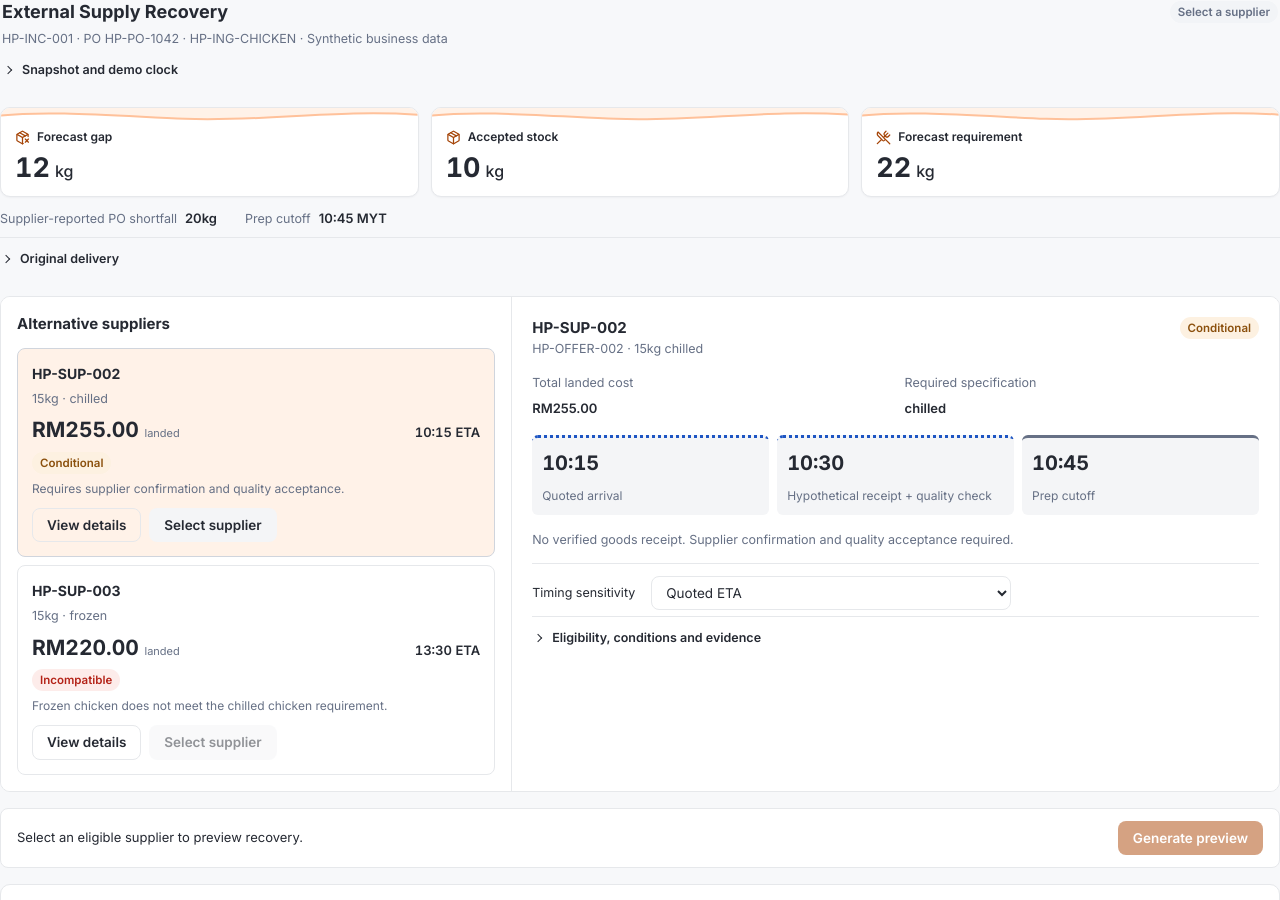
Scenario: requires a selected eligible supplier and current scenario for an internal PO
Click the button with aria-label "Inspect HP-OFFER-003" at {"x": 87, "y": 743}, box [32,725,141,760]
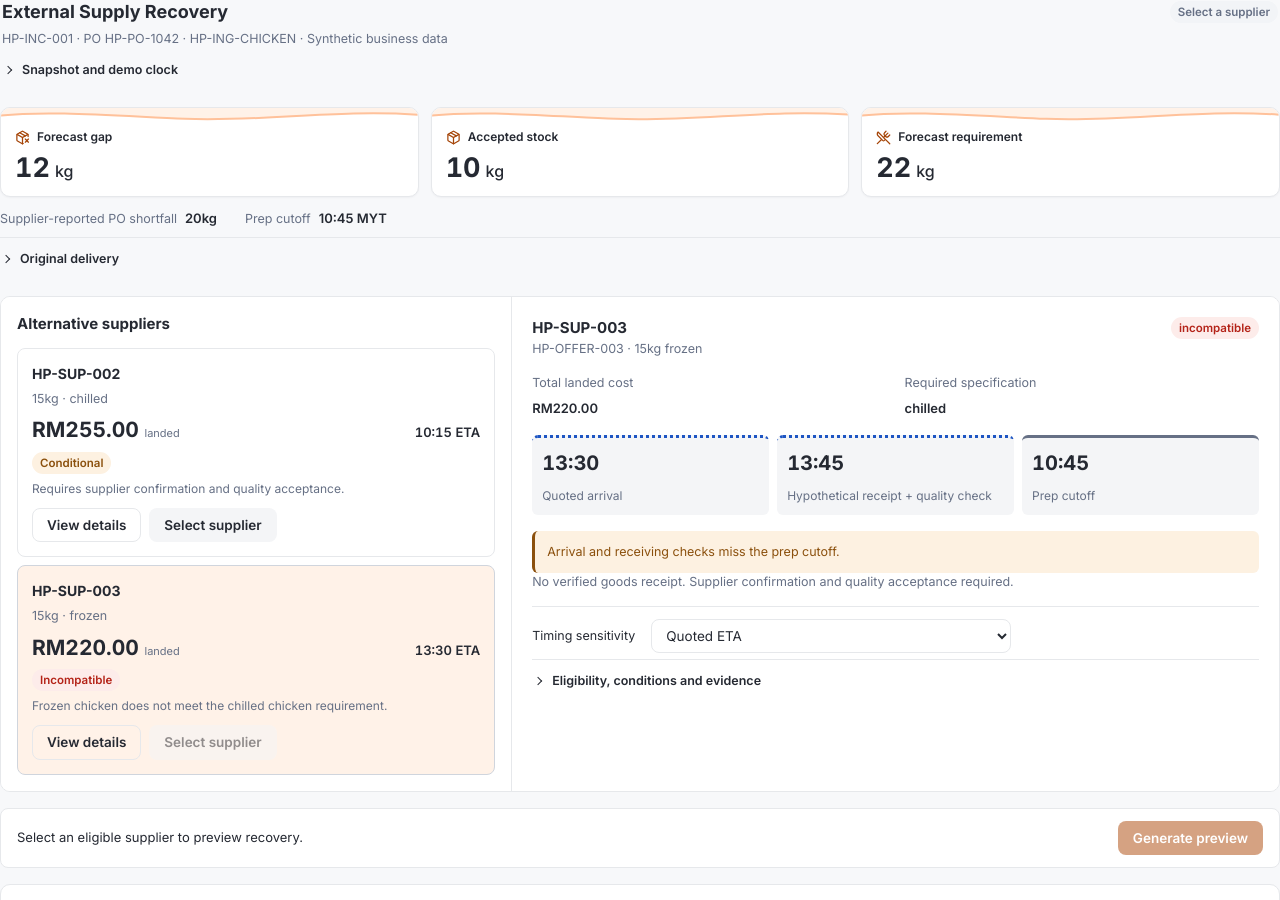
Click the button with aria-label "Select HP-OFFER-002" at {"x": 213, "y": 525}, box [149,508,277,542]
(page scrolled)
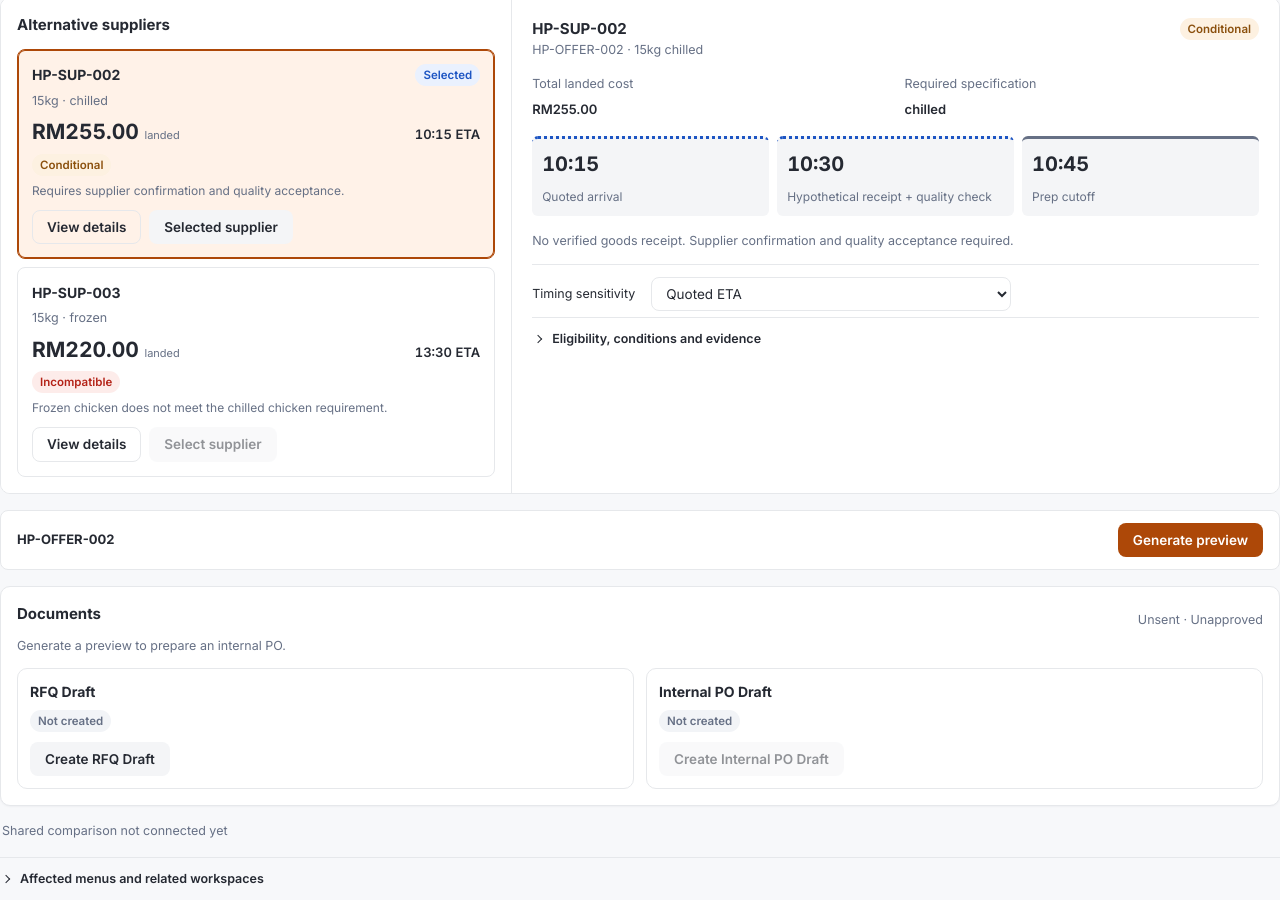
Check: the button "Create Internal PO Draft" is disabled, box [659,742,844,776]
Check: the button "Create RFQ Draft" is enabled, box [30,742,170,776]
